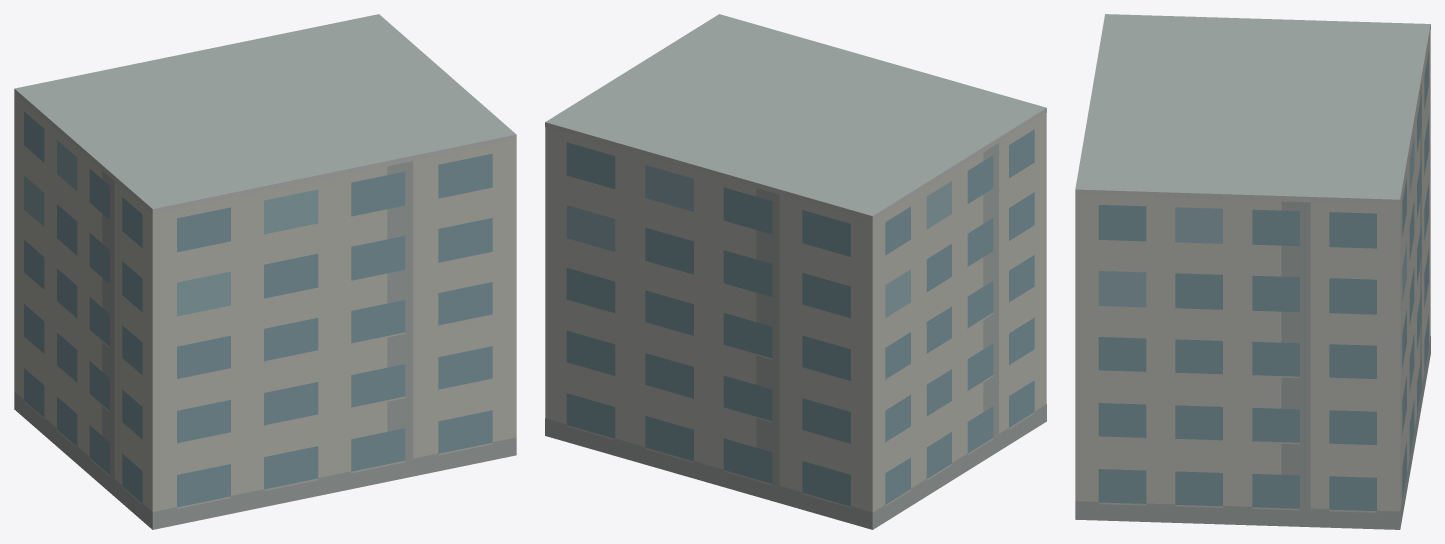
Rendered from survey-upis-32970273.glb.
3 views of the same model, side by side, from view 1: azimuth 30°, elevation 25°; view 2: azimuth 150°, elevation 25°; view 3: azimuth 270°, elevation 25° (orthographic). The views are drawn at different scales.
Visible parts, largest first — view 1: survey-upis-32970273.tmp; view 2: survey-upis-32970273.tmp; view 3: survey-upis-32970273.tmp.
Boxes of the visible parts, x1=… form: survey-upis-32970273.tmp: x1=14, y1=14, x2=516, y2=529; survey-upis-32970273.tmp: x1=545, y1=14, x2=1046, y2=529; survey-upis-32970273.tmp: x1=1075, y1=14, x2=1430, y2=529.
Size of the model in its own units: 17.74 by 14.7 by 14.35.
